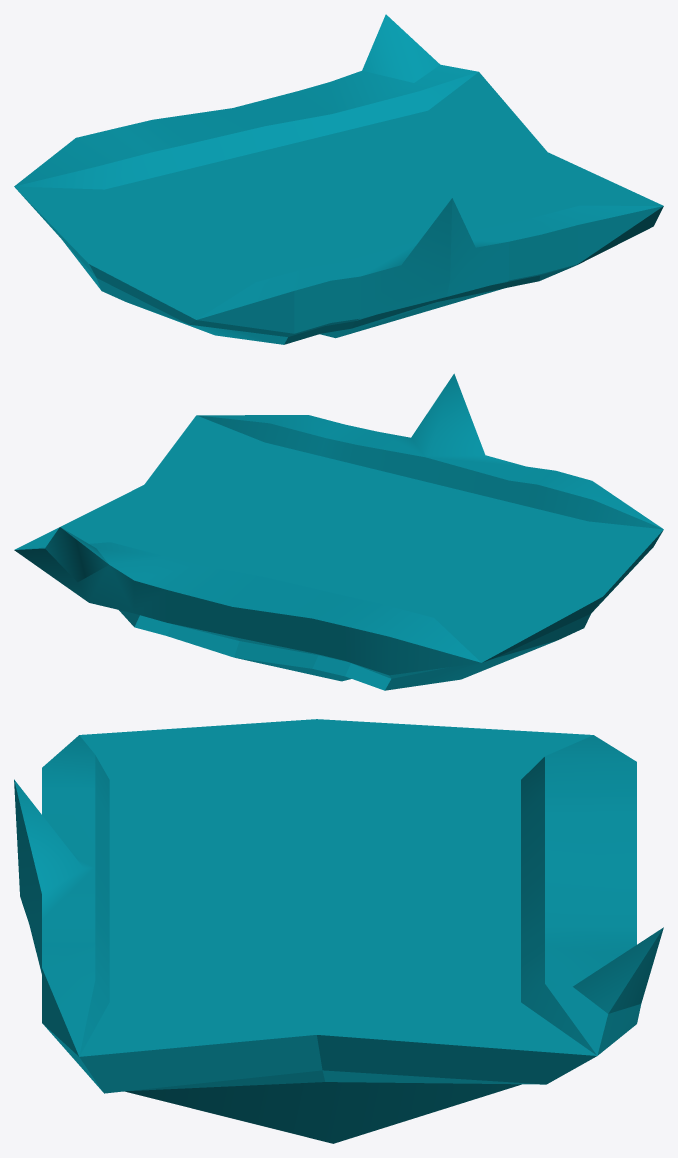
Rendered from Sml_3_NoC.fbx.
3 views of the same model, one above another, from view 1: azimuth 30°, elevation 25°; view 2: azimuth 150°, elevation 25°; view 3: azimuth 270°, elevation 25° (orthographic). The views are drawn at different scales.
Visible parts, largest first — view 1: Sml_3_No_C; view 2: Sml_3_No_C; view 3: Sml_3_No_C.
Part boxes in pixels (x1=…): Sml_3_No_C: x1=14, y1=14, x2=663, y2=344; Sml_3_No_C: x1=14, y1=373, x2=663, y2=690; Sml_3_No_C: x1=14, y1=719, x2=663, y2=1143.
Size of the model in its own units: 1.76 by 0.7692 by 1.43.
